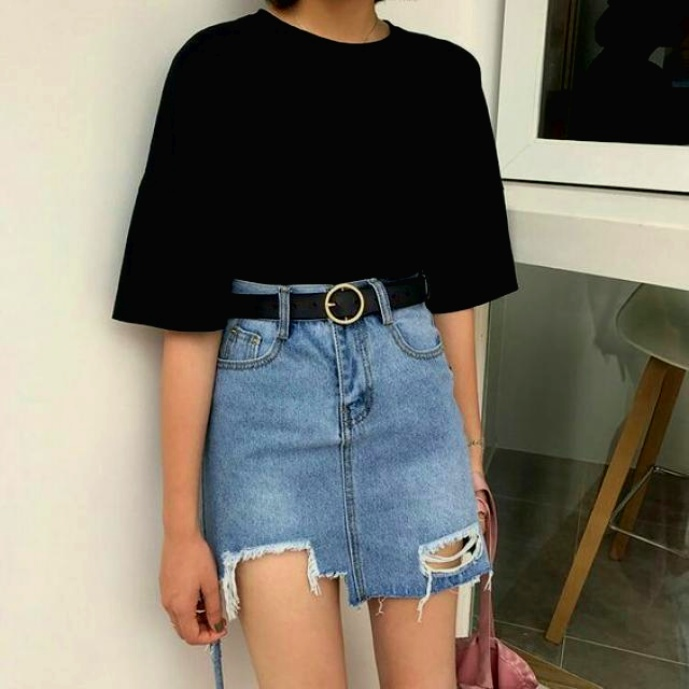Shorts: (212, 268, 496, 689)
